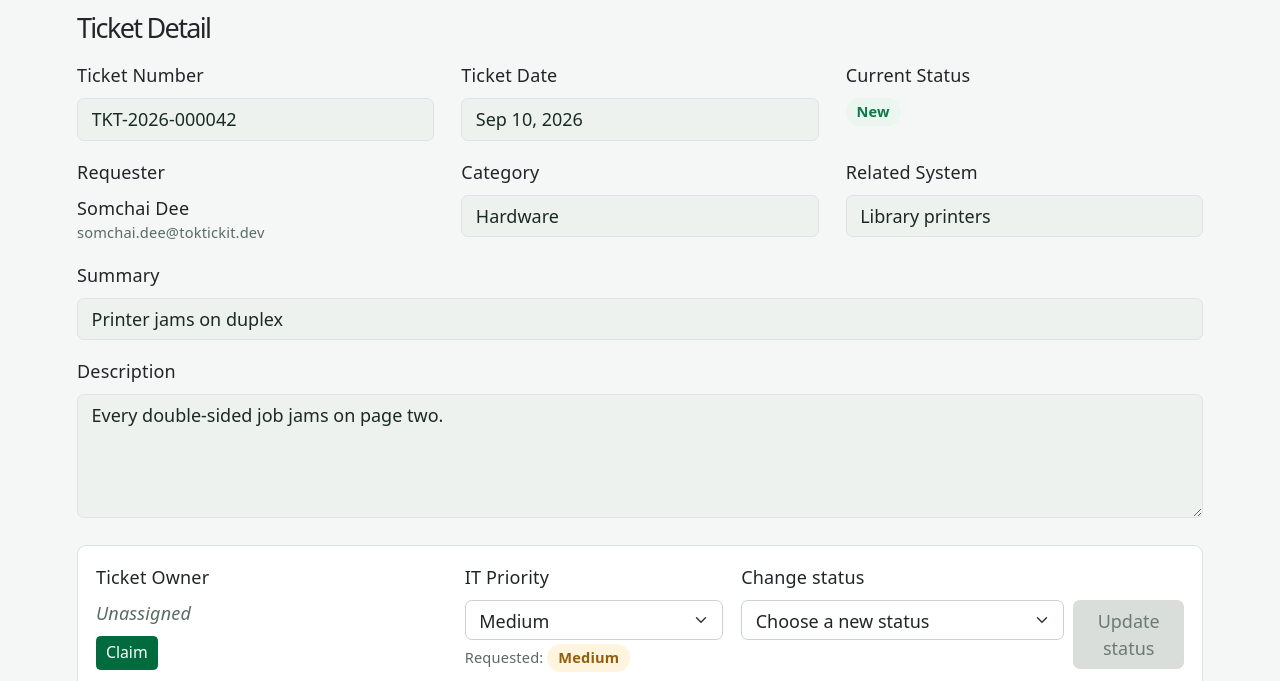
Test case: StaffTicketDetail › ownership and IT Priority › claims an unassigned New Ticket and shows the new owner with a success message
Click the button "Claim".
click(127, 653)  # box [96,636,158,670]
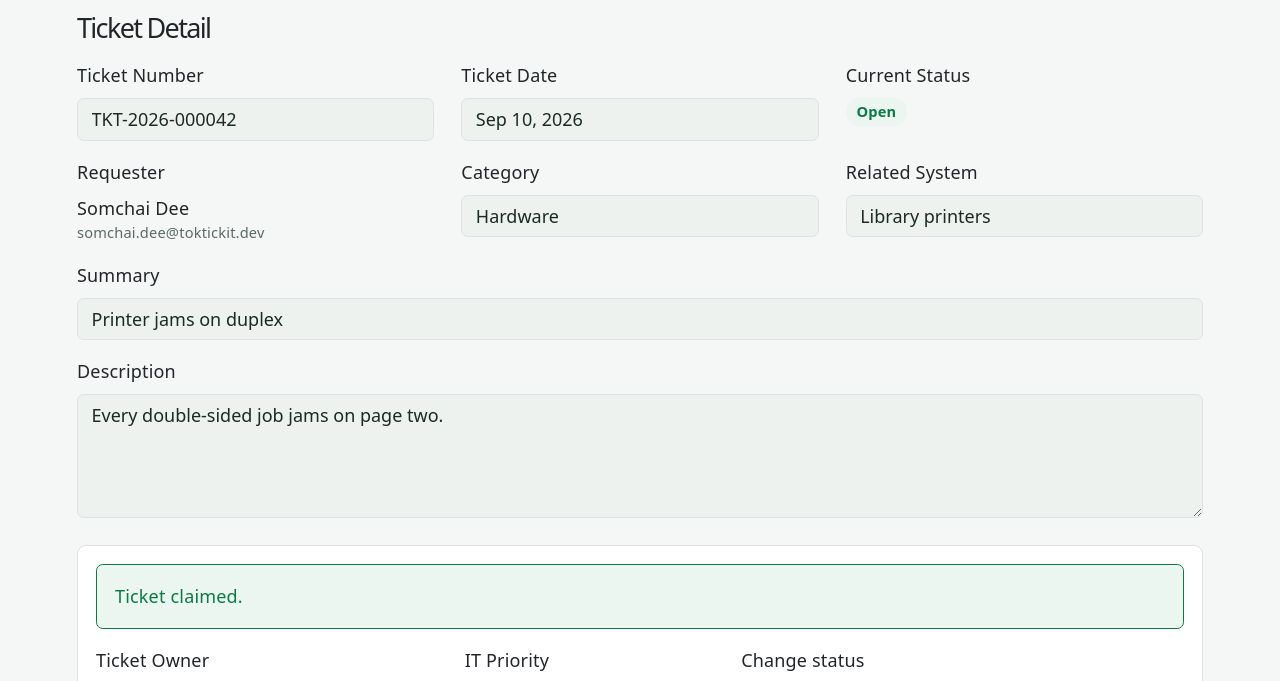
Expected: the message shows "Ticket claimed", [115,584,243,608]
